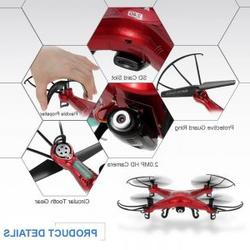drone: (116, 173, 244, 221)
